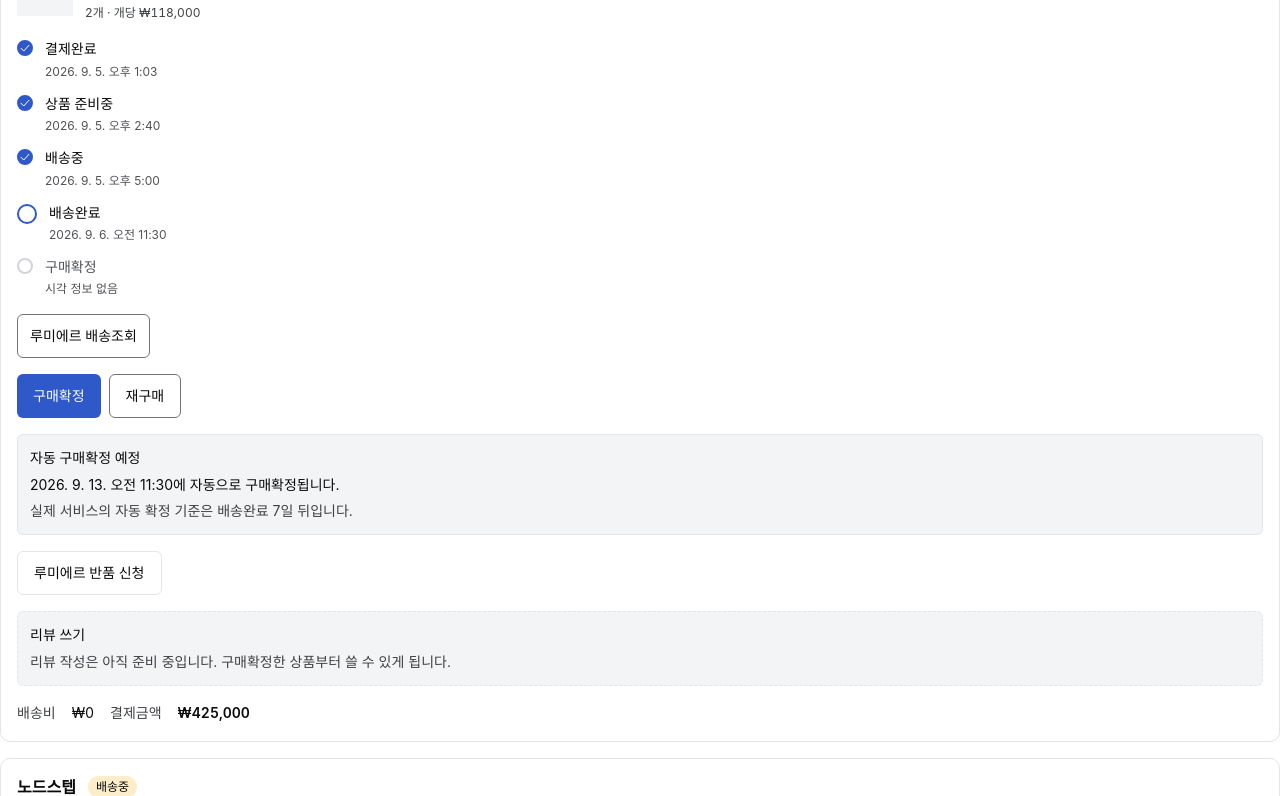
Test case: 구매확정 (F3) › 되돌릴 수 없다는 것과 자동 확정을 확인창이 말한다
(page scrolled)
Click the button "구매확정". click: point(59, 396)
box: x1=17 y1=374 x2=100 y2=418
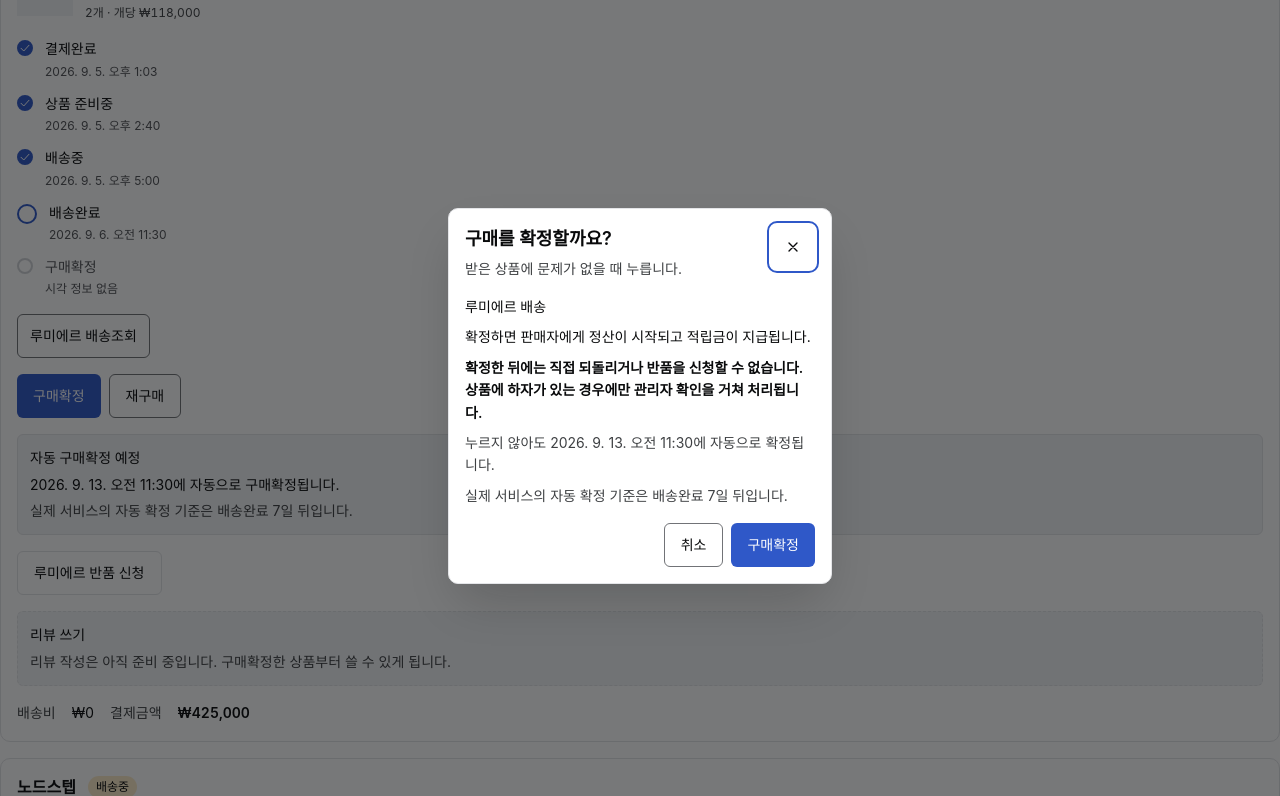
Result: the text "확정하면 판매자에게 정산이 시작되고 적립금이 지급됩니다." is shown at x1=465 y1=326 x2=815 y2=349
Result: the text "확정한 뒤에는 직접 되돌리거나 반품을 신청할 수 없습니다. 상품에 하자가 있는 경우에만 관리자 확인을 거쳐 처리됩니다." is shown at x1=465 y1=357 x2=815 y2=424
Result: the text "누르지 않아도 2026. 9. 13. 오전 11:30에 자동으로 확정됩니다." is shown at x1=465 y1=432 x2=815 y2=477
